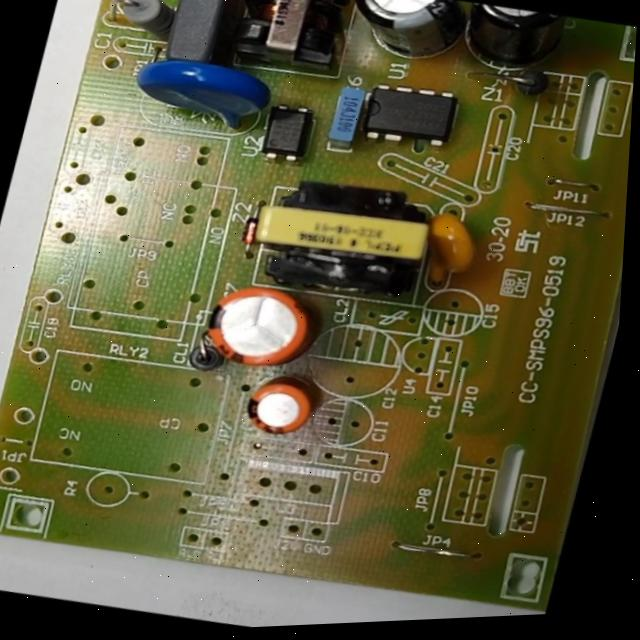Cap1: (193, 272, 325, 383)
Cap2: (240, 370, 316, 440)
Cap3: (329, 0, 471, 74)
Cap4: (450, 0, 570, 82)
MOSFET: (354, 73, 463, 158)
Mov: (117, 41, 277, 145)
Resistor: (104, 0, 176, 43)
Transformer: (244, 166, 443, 314), (219, 0, 350, 79)
